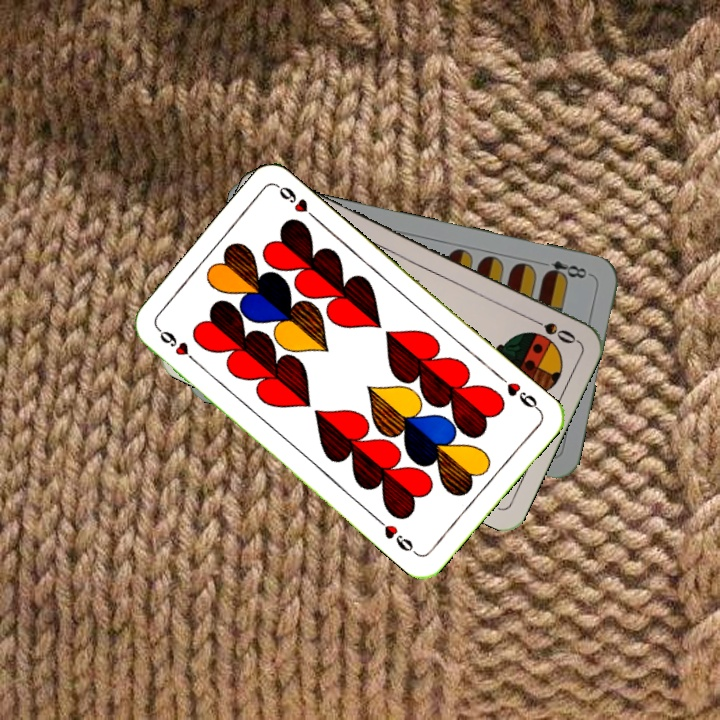E8: (535, 256, 594, 283)
H9: (153, 323, 201, 368), (494, 371, 543, 414)
SO: (524, 313, 580, 347)
